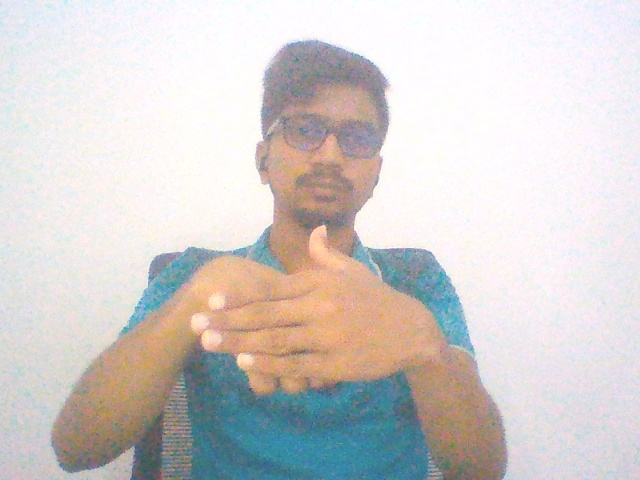pineapple: (163, 207, 441, 417)
